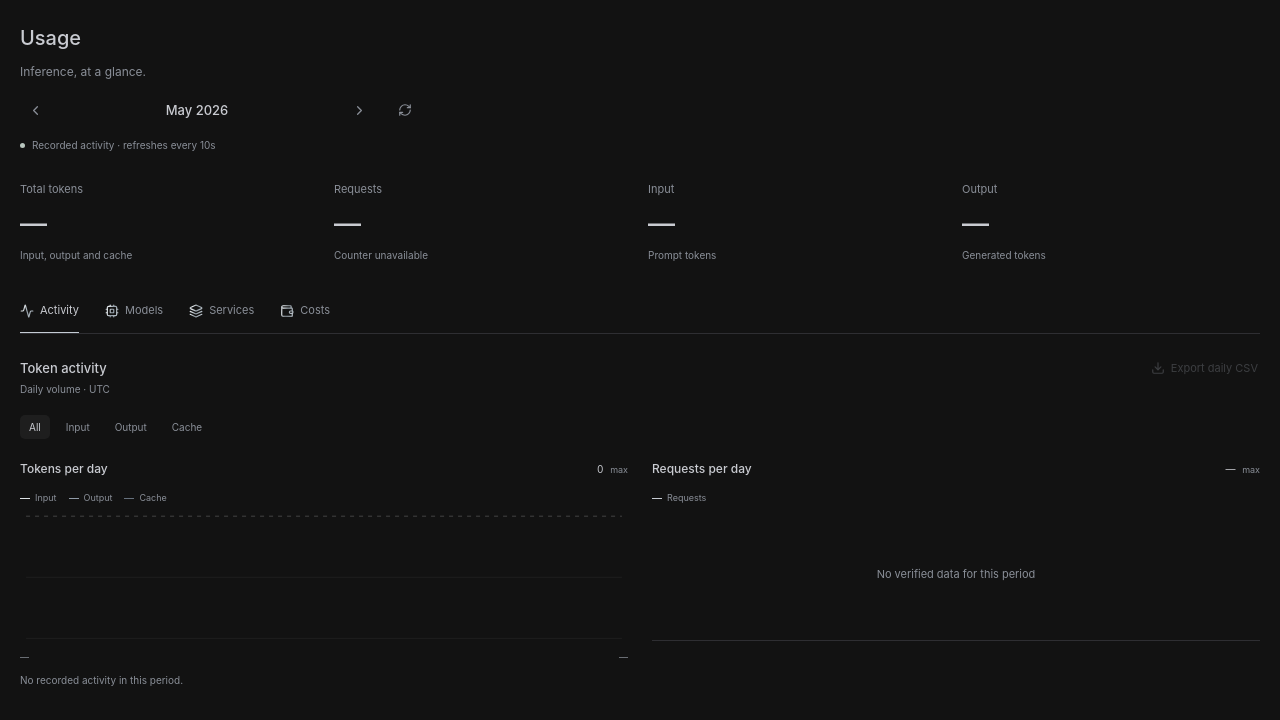
Test: reports allocation failure and allows a fresh export without changing filters
The image size is (1280, 720).
Click the button "Models" at (134, 312), box 105,292 -> 163,333
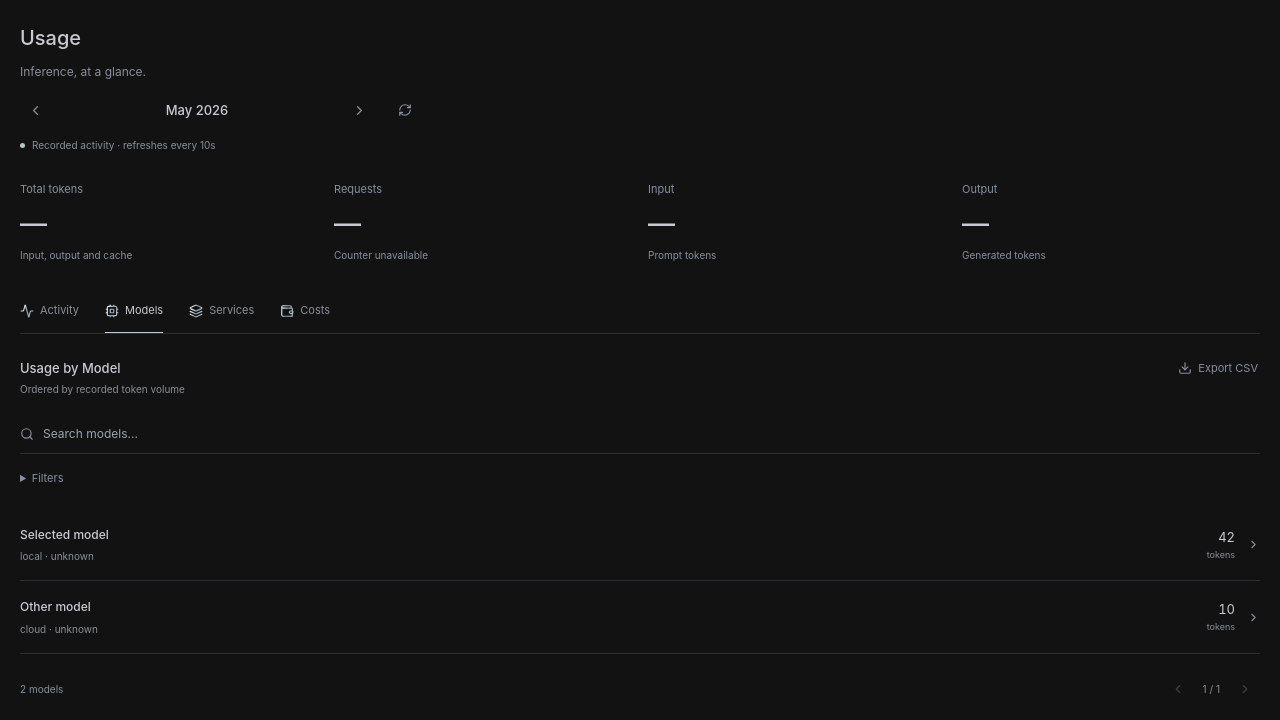
Type "Selected" into the field labelled "Search models" at (652, 434), box 43,424 -> 1260,444
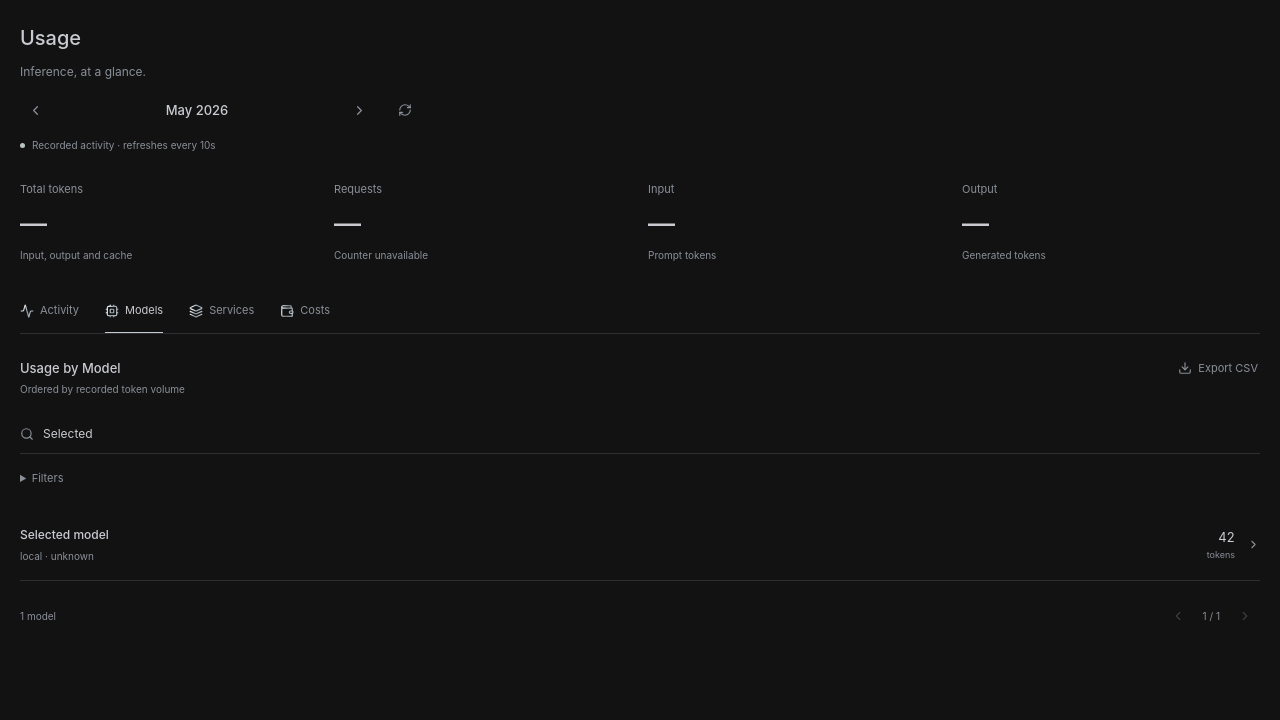
Click the button "Export CSV" at (1218, 368), box 1176,358 -> 1260,379
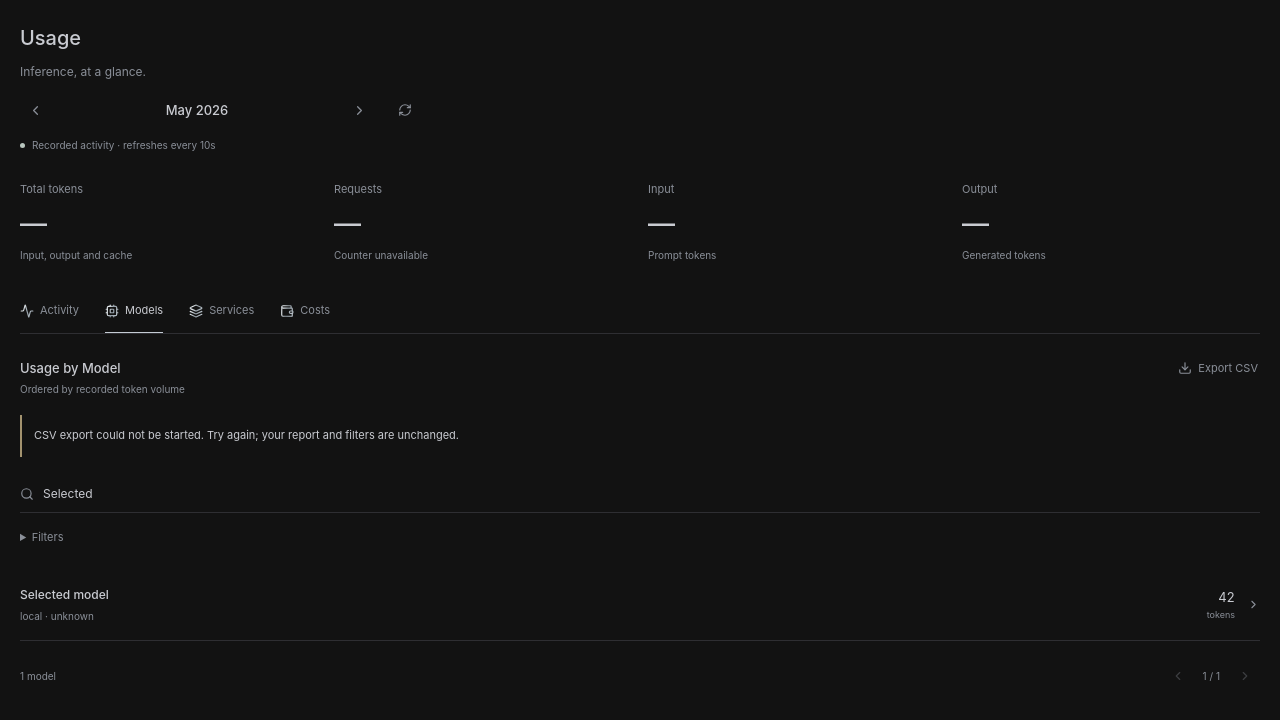
expect the message shows "CSV export could not be started": met, box 34,428 -> 459,442
Click the button "Export CSV" at (1218, 368), box 1176,358 -> 1260,379
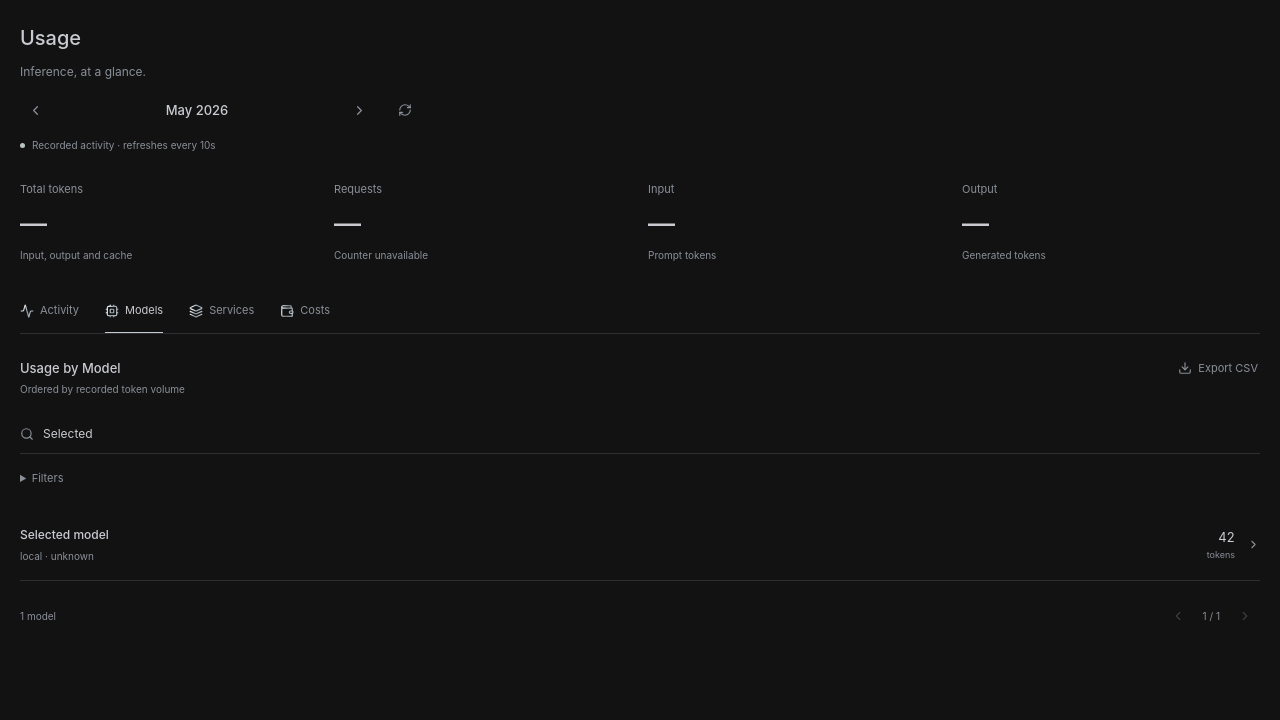
expect the message is gone: met
